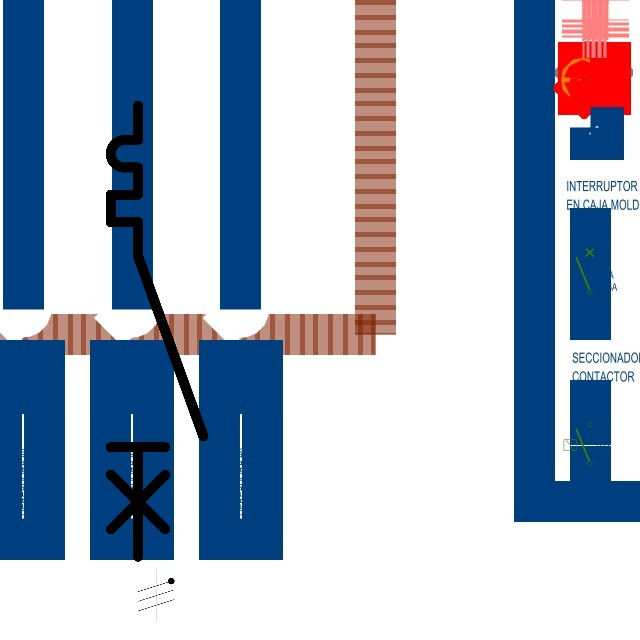interruptor_termomagnetico: (99, 94, 215, 569)
